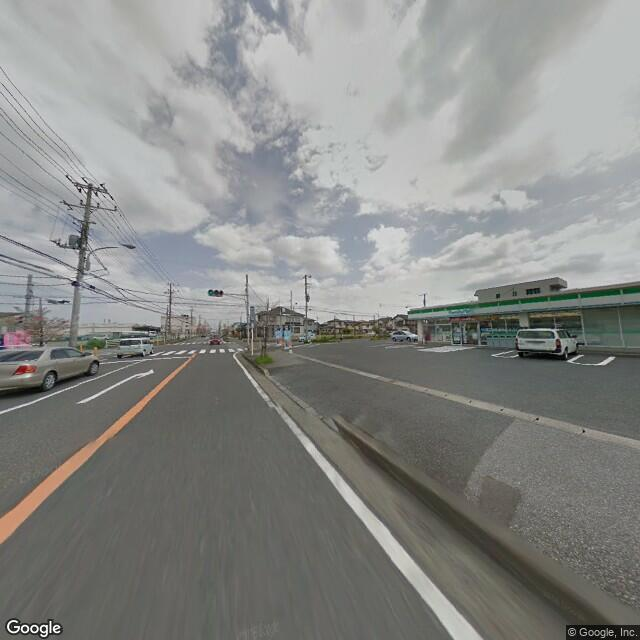family_mart: (407, 283, 639, 321)
